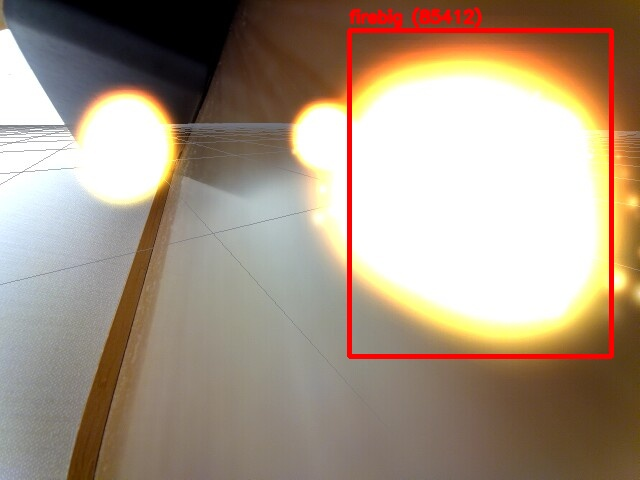firebig: (349, 30, 611, 356)
